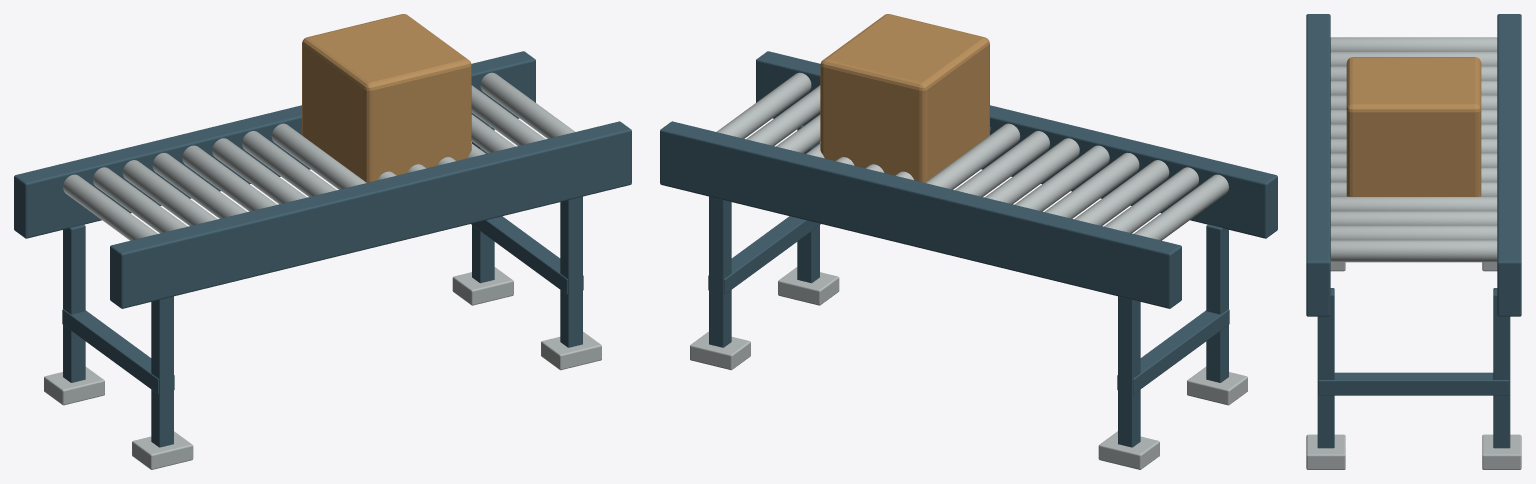
The model's file is gravity_roller_conveyor.glb.
The picture shows the model from 3 angles, left to right: view 1: azimuth 30°, elevation 25°; view 2: azimuth 150°, elevation 25°; view 3: azimuth 270°, elevation 25°; orthographic projection.
Visible parts, largest first — view 1: SIDE_-0.39, CARTON, SIDE_0.39, LEG_0.96_-0.3588, LEG_-0.96_-0.3588, LEG_-0.96_0.3588, CROSS_-0.96, CROSS_0.96, ROLLER_0, ROLLER_7, ROLLER_4, ROLLER_14 (+12 smaller); view 2: SIDE_0.39, CARTON, SIDE_-0.39, LEG_0.96_0.3588, LEG_-0.96_0.3588, LEG_-0.96_-0.3588, CROSS_-0.96, CROSS_0.96, ROLLER_0, ROLLER_7, ROLLER_4, ROLLER_14 (+12 smaller); view 3: CARTON, SIDE_0.39, SIDE_-0.39, CROSS_0.96, ROLLER_14, ROLLER_13, ROLLER_11, ROLLER_12, ROLLER_0, LEG_0.96_0.3588, LEG_0.96_-0.3588, ROLLER_1 (+11 smaller).
Boxes of the visible parts, x1=… form: SIDE_-0.39: x1=110, y1=121, x2=631, y2=308; CARTON: x1=302, y1=14, x2=471, y2=182; SIDE_0.39: x1=14, y1=51, x2=535, y2=238; LEG_0.96_-0.3588: x1=560, y1=196, x2=582, y2=347; LEG_-0.96_-0.3588: x1=151, y1=296, x2=173, y2=447; LEG_-0.96_0.3588: x1=63, y1=224, x2=85, y2=382; CROSS_-0.96: x1=62, y1=309, x2=174, y2=394; CROSS_0.96: x1=471, y1=216, x2=583, y2=294; ROLLER_0: x1=63, y1=174, x2=157, y2=240; ROLLER_7: x1=271, y1=123, x2=366, y2=189; ROLLER_4: x1=182, y1=145, x2=277, y2=211; ROLLER_14: x1=480, y1=72, x2=574, y2=138; SIDE_0.39: x1=660, y1=121, x2=1181, y2=308; CARTON: x1=820, y1=14, x2=989, y2=182; SIDE_-0.39: x1=756, y1=51, x2=1277, y2=238; LEG_0.96_0.3588: x1=709, y1=196, x2=731, y2=347; LEG_-0.96_0.3588: x1=1118, y1=296, x2=1140, y2=447; LEG_-0.96_-0.3588: x1=1206, y1=224, x2=1228, y2=382; CROSS_-0.96: x1=1117, y1=309, x2=1229, y2=394; CROSS_0.96: x1=708, y1=216, x2=820, y2=294; ROLLER_0: x1=1134, y1=174, x2=1228, y2=240; ROLLER_7: x1=925, y1=123, x2=1020, y2=189; ROLLER_4: x1=1014, y1=145, x2=1109, y2=211; ROLLER_14: x1=717, y1=72, x2=811, y2=138; CARTON: x1=1346, y1=57, x2=1481, y2=196; SIDE_0.39: x1=1497, y1=14, x2=1521, y2=316; SIDE_-0.39: x1=1306, y1=14, x2=1330, y2=316; CROSS_0.96: x1=1318, y1=372, x2=1509, y2=395; ROLLER_14: x1=1330, y1=240, x2=1497, y2=262; ROLLER_13: x1=1330, y1=225, x2=1497, y2=240; ROLLER_11: x1=1330, y1=196, x2=1497, y2=211; ROLLER_12: x1=1330, y1=211, x2=1497, y2=225; ROLLER_0: x1=1330, y1=37, x2=1497, y2=51; LEG_0.96_0.3588: x1=1493, y1=288, x2=1510, y2=448; LEG_0.96_-0.3588: x1=1317, y1=288, x2=1334, y2=448; ROLLER_1: x1=1330, y1=51, x2=1497, y2=66.
Size of the model in its own units: 2.4 by 1.4 by 0.88.
